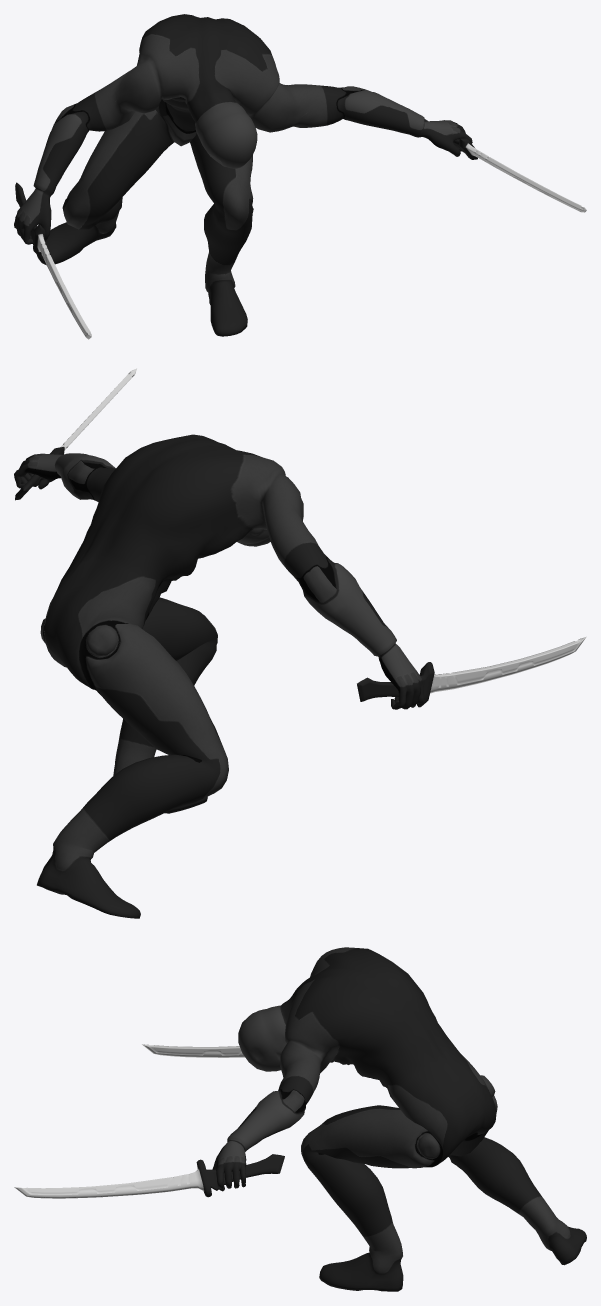
The picture shows the model from 3 angles, top to bottom: view 1: azimuth 30°, elevation 25°; view 2: azimuth 150°, elevation 25°; view 3: azimuth 270°, elevation 25°; orthographic projection. The views are drawn at different scales.
Visible parts, largest first — view 1: Cyborg_Ninja_Killer, Sword_l001, Sword_l; view 2: Cyborg_Ninja_Killer, Sword_l001, Sword_l; view 3: Cyborg_Ninja_Killer, Sword_l, Sword_l001.
Boxes of the visible parts, x1=… form: Cyborg_Ninja_Killer: x1=14, y1=14, x2=472, y2=336; Sword_l001: x1=15, y1=182, x2=91, y2=339; Sword_l: x1=424, y1=119, x2=586, y2=212; Cyborg_Ninja_Killer: x1=14, y1=434, x2=424, y2=918; Sword_l001: x1=357, y1=636, x2=586, y2=707; Sword_l: x1=15, y1=368, x2=136, y2=500; Cyborg_Ninja_Killer: x1=212, y1=947, x2=586, y2=1291; Sword_l: x1=14, y1=1154, x2=284, y2=1198; Sword_l001: x1=142, y1=1044, x2=333, y2=1062.
Bounding box in the file's own units: 163 × 108 × 185.
2 materials, 2 textured.
